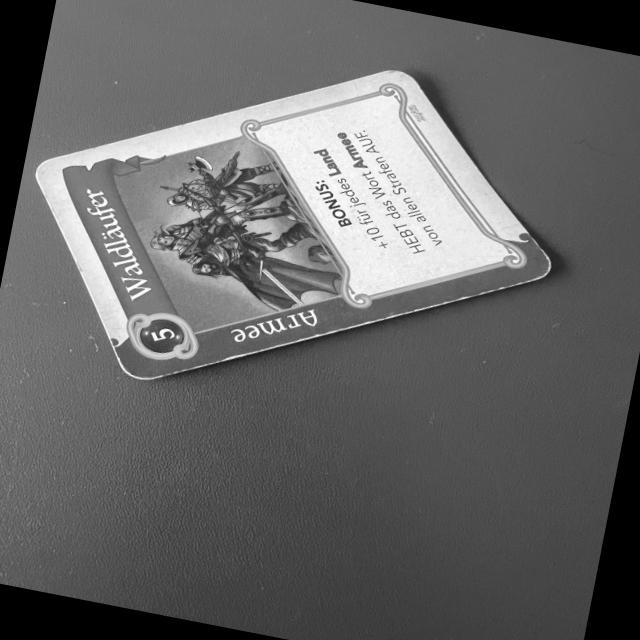Rangers: (30, 64, 559, 387)
